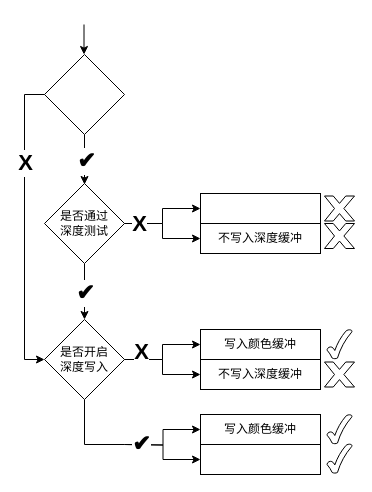
The diagram is 372 pixels wide and 492 high, and some of its shapes have lost their labels. Here are the shapes that lost their labels. From the top down, the centre of each, then its label:
At [84,94]: "是否开启 深度测试".
At [260,208]: "不写入颜色缓冲".
At [260,459]: "写入深度缓冲".
